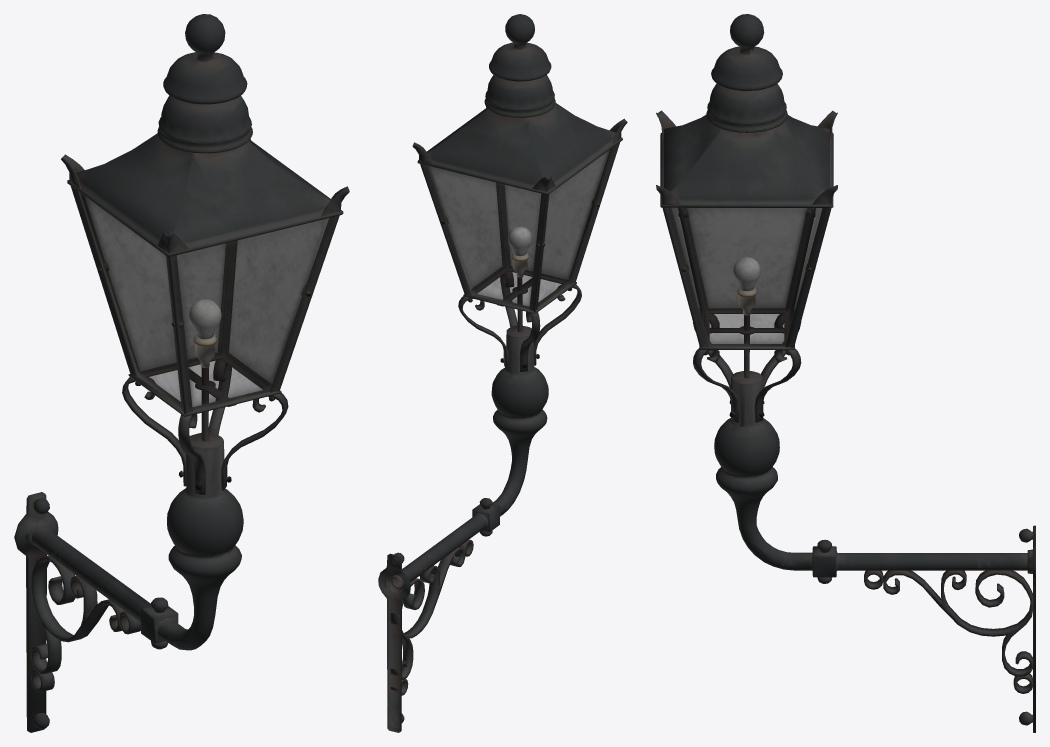
File: street_lamp_02.glb
3 views of the same model, side by side, from view 1: azimuth 30°, elevation 25°; view 2: azimuth 150°, elevation 25°; view 3: azimuth 270°, elevation 25° (orthographic). The views are drawn at different scales.
Visible parts, largest first — view 1: street_lamp_02; view 2: street_lamp_02; view 3: street_lamp_02.
Part boxes in pixels (x1,y1,x2,y2): street_lamp_02: [14, 14, 349, 732]; street_lamp_02: [378, 14, 627, 732]; street_lamp_02: [656, 14, 1035, 732].
Size of the model in its own units: 0.3866 by 1.67 by 0.8068.
Materials: 3 (3 with a texture image).
